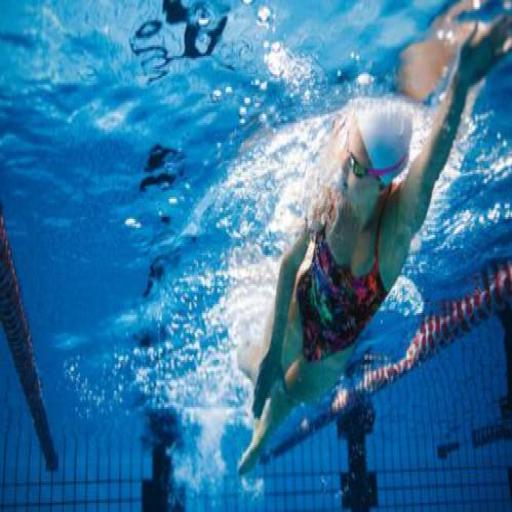swimming: (234, 0, 511, 479)
